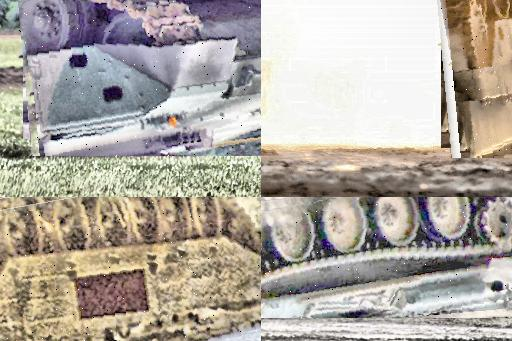tanks: (18, 1, 262, 157), (1, 198, 262, 341), (262, 198, 512, 319), (440, 1, 512, 158)
